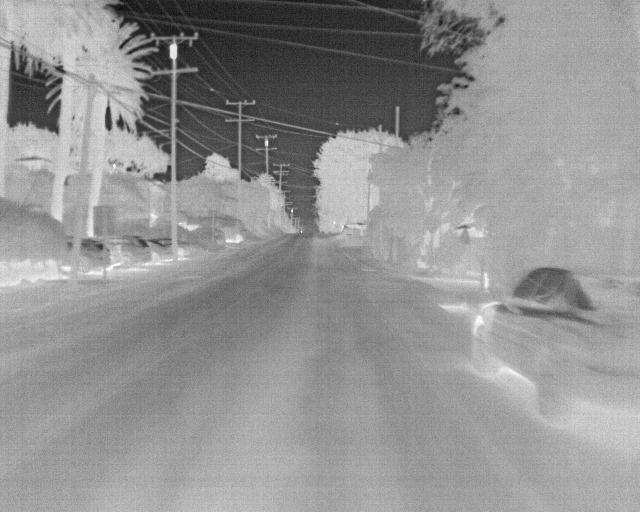car: (465, 262, 637, 429), (118, 236, 155, 264), (149, 240, 173, 262)
